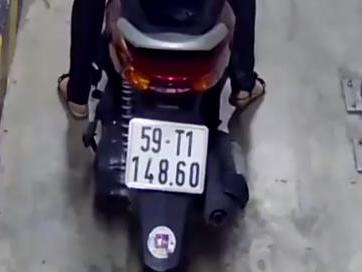num_plate: (123, 115, 208, 196)
